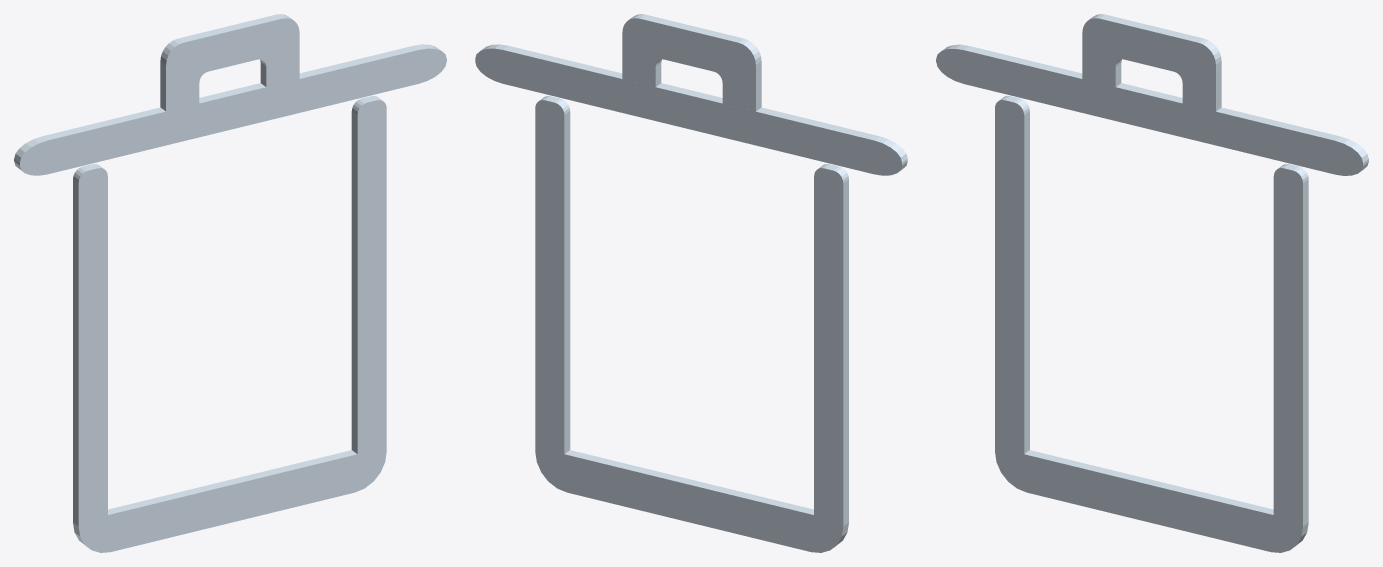
Rendered from Trash_3D_Icon_02.fbx.
3 views of the same model, side by side, from view 1: azimuth 30°, elevation 25°; view 2: azimuth 150°, elevation 25°; view 3: azimuth 330°, elevation 25° (orthographic).
Parts seen in each view (by area): view 1: Trash_3D_Icon_02; view 2: Trash_3D_Icon_02; view 3: Trash_3D_Icon_02.
Boxes of the visible parts, bbox=[...] form: Trash_3D_Icon_02: bbox=[14, 14, 446, 552]; Trash_3D_Icon_02: bbox=[475, 14, 907, 552]; Trash_3D_Icon_02: bbox=[936, 14, 1368, 552].
Bounding box in the file's own units: 83.14 × 91.48 × 1.93.
